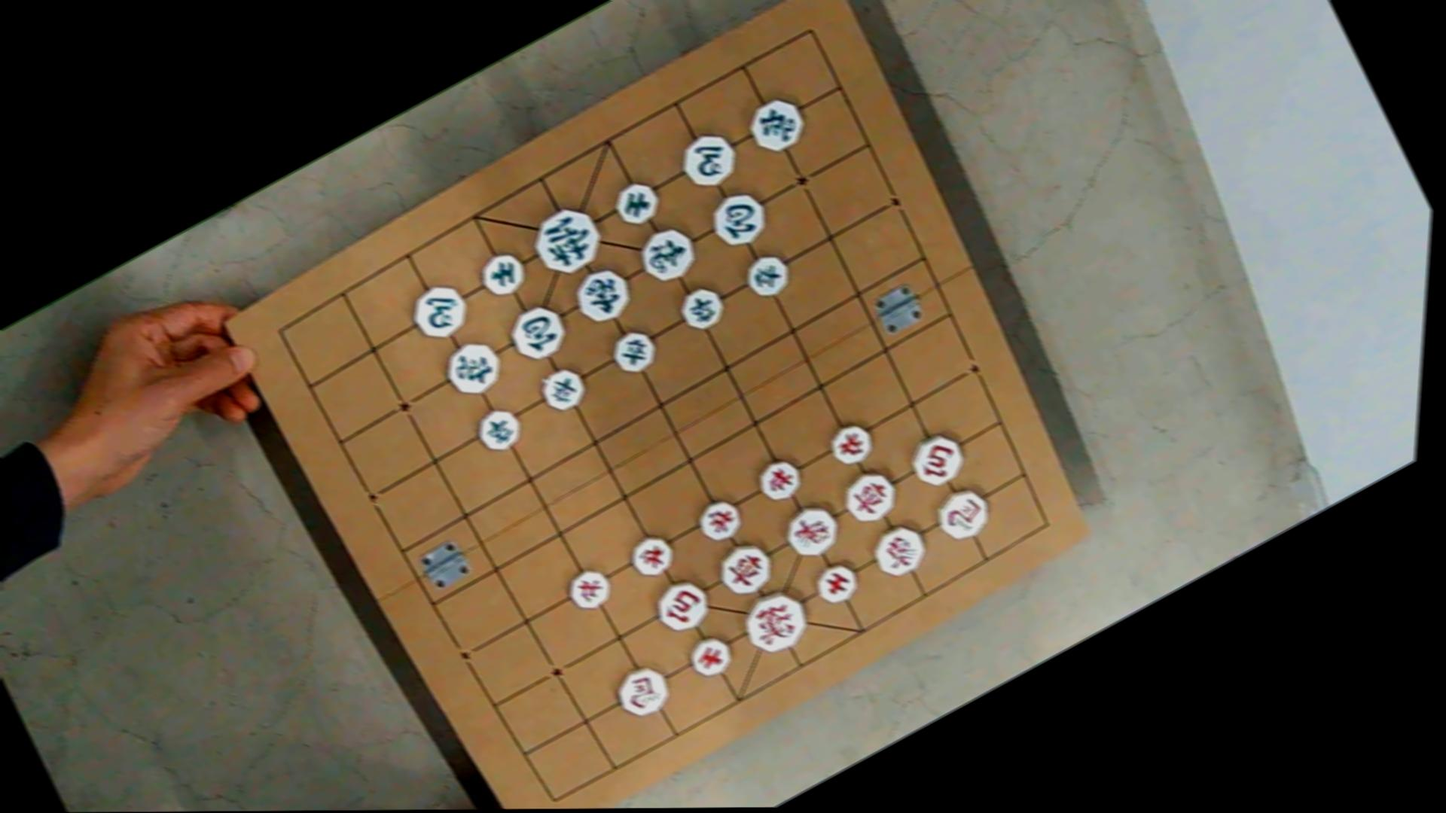cha_green: (436, 334, 510, 403), (740, 91, 813, 159)
cha_red: (709, 536, 780, 602), (834, 463, 905, 528)
jol_green: (739, 248, 797, 303), (534, 362, 592, 416), (470, 403, 527, 457), (673, 282, 730, 334), (606, 325, 662, 377)
jol_red: (823, 417, 880, 470), (691, 494, 748, 546), (561, 564, 618, 615), (625, 531, 680, 581), (752, 455, 807, 505)
ma_green: (673, 126, 745, 193), (403, 278, 475, 345)
ma_red: (928, 482, 998, 547), (608, 660, 676, 723)
po_green: (502, 298, 575, 367), (702, 185, 775, 252)
po_red: (647, 573, 718, 638), (902, 428, 972, 492)
sa_green: (474, 248, 532, 300), (609, 177, 665, 230)
sa_red: (682, 630, 739, 682), (810, 558, 865, 608)
sang_green: (631, 220, 704, 288), (566, 261, 639, 329)
sang_red: (776, 498, 846, 563), (864, 518, 934, 582)
wang_green: (522, 198, 612, 283)
wang_red: (734, 583, 817, 661)
